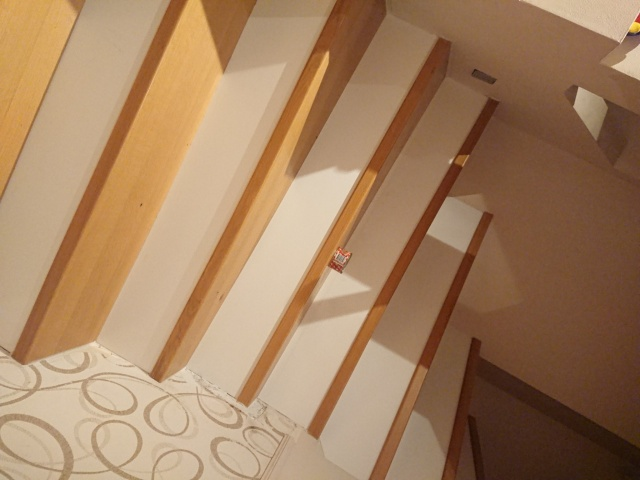Podravka Luncheon Meat 150g: (326, 245, 354, 276)
